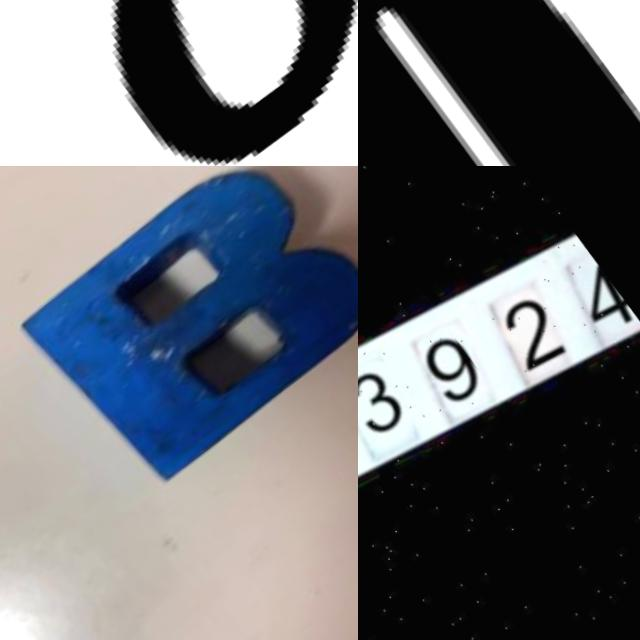2: (476, 268, 587, 382)
3: (358, 340, 429, 453)
4: (547, 240, 640, 344)
8: (0, 0, 358, 166)
9: (358, 0, 640, 166), (392, 300, 511, 422)
B: (2, 166, 358, 509)
